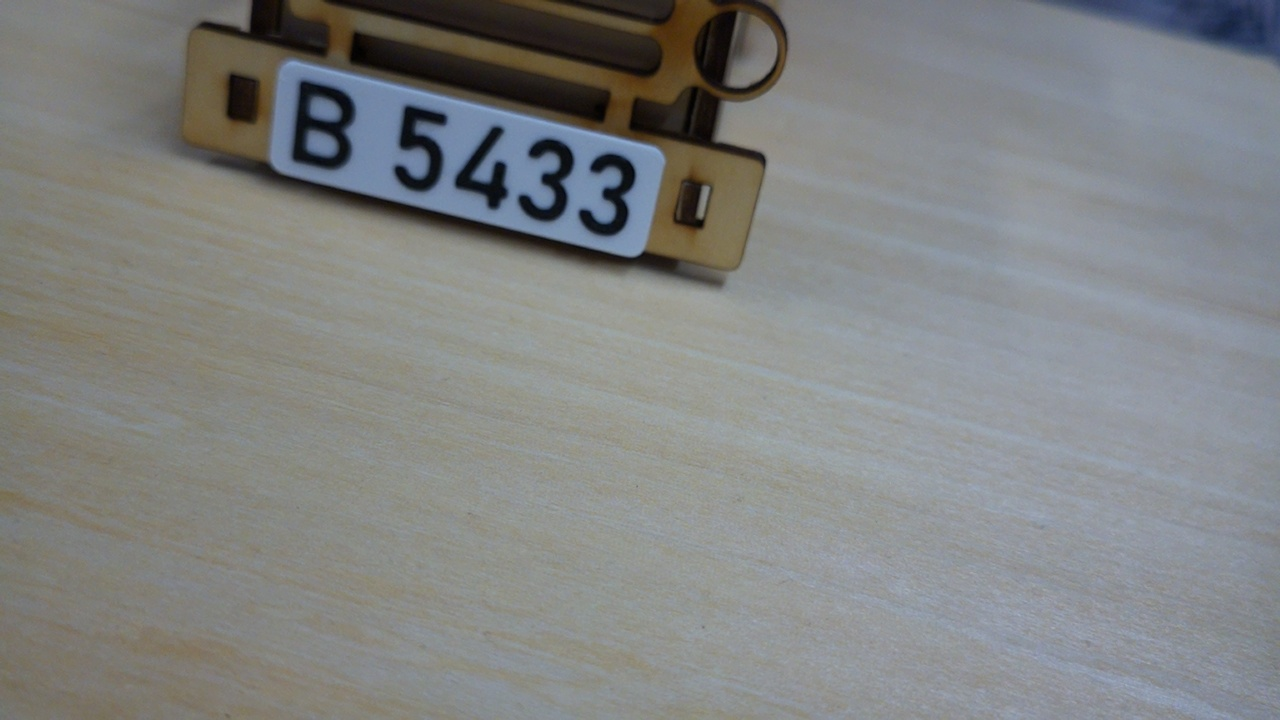license_plate: (268, 53, 669, 260)
